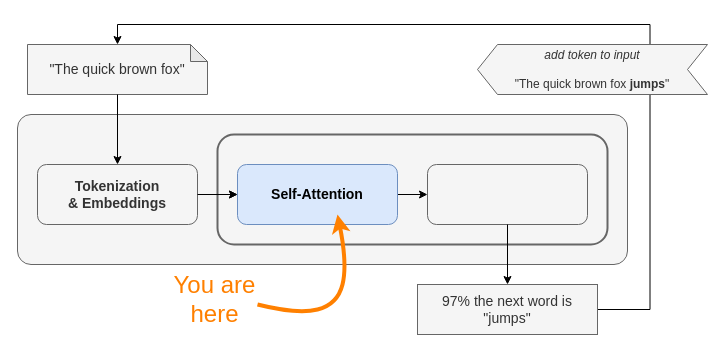
The diagram is 725 pixels wide and 352 high, and some of its shapes have lost their labels. Each missing label, with the box of its shape:
Feedforward Network: (426, 164, 588, 224)
Transformer: (216, 133, 608, 245)
